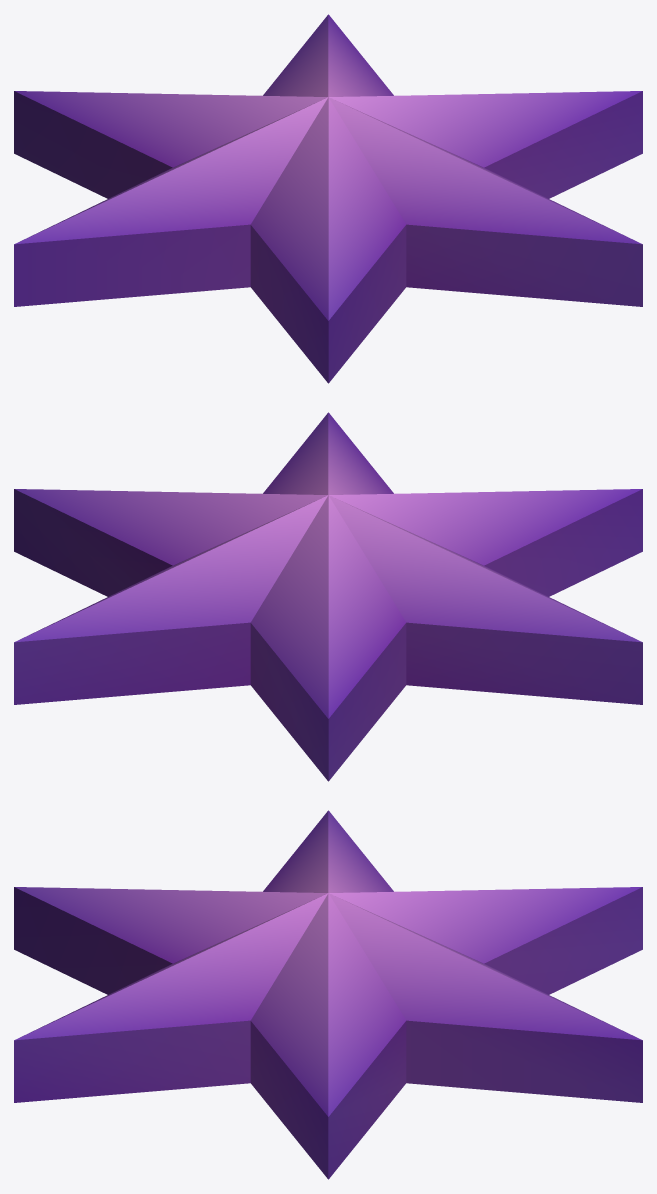
File: Void_Blossom.glb
The picture shows the model from 3 angles, top to bottom: view 1: azimuth 30°, elevation 25°; view 2: azimuth 150°, elevation 25°; view 3: azimuth 270°, elevation 25°; orthographic projection.
Parts seen in each view (by area): view 1: VoidBlossom; view 2: VoidBlossom; view 3: VoidBlossom.
Part boxes in pixels (bbox=[...]): VoidBlossom: bbox=[14, 14, 642, 383]; VoidBlossom: bbox=[14, 412, 642, 781]; VoidBlossom: bbox=[14, 810, 642, 1179].
Size of the model in its own units: 0.84 by 0.18 by 0.7275.
